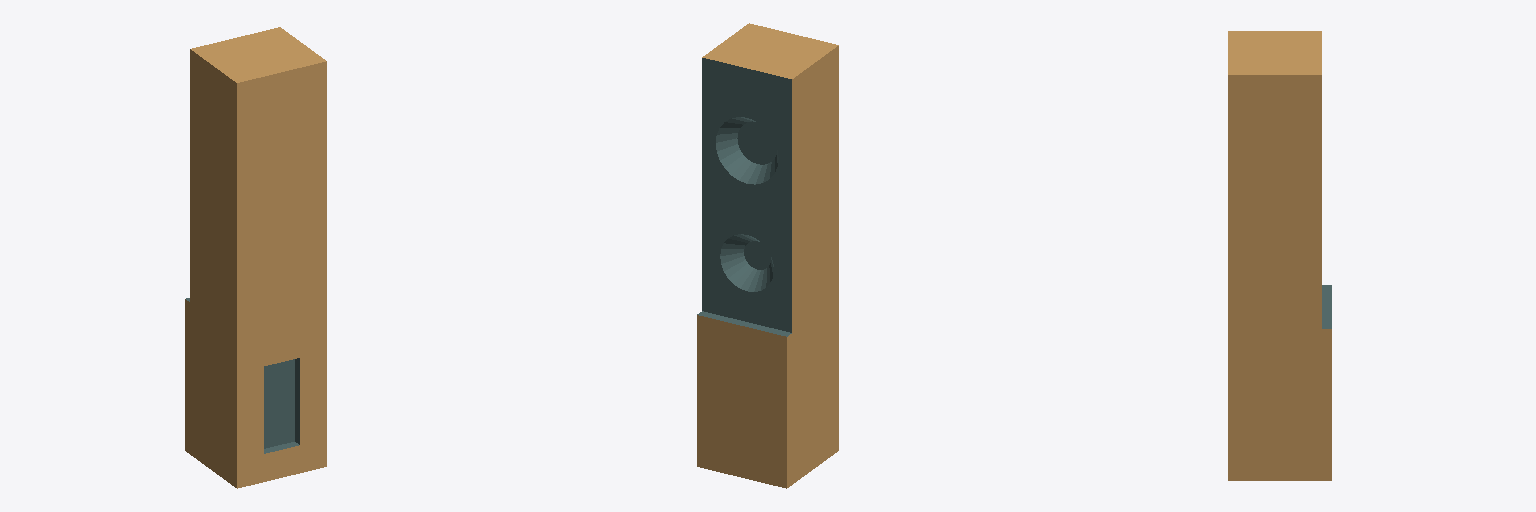
Rendered from speaker.obj.
3 renders of one model, left to right at view 1: azimuth 30°, elevation 25°; view 2: azimuth 150°, elevation 25°; view 3: azimuth 270°, elevation 25°, orthographic.
Visible parts, largest first — view 1: speaker; view 2: speaker; view 3: speaker.
Part boxes in pixels (x1,y1,x2,y2): speaker: (185, 27, 326, 488); speaker: (697, 23, 838, 488); speaker: (1228, 31, 1331, 480).
Bounding box in the file's own units: 1.48 × 6.36 × 1.48.